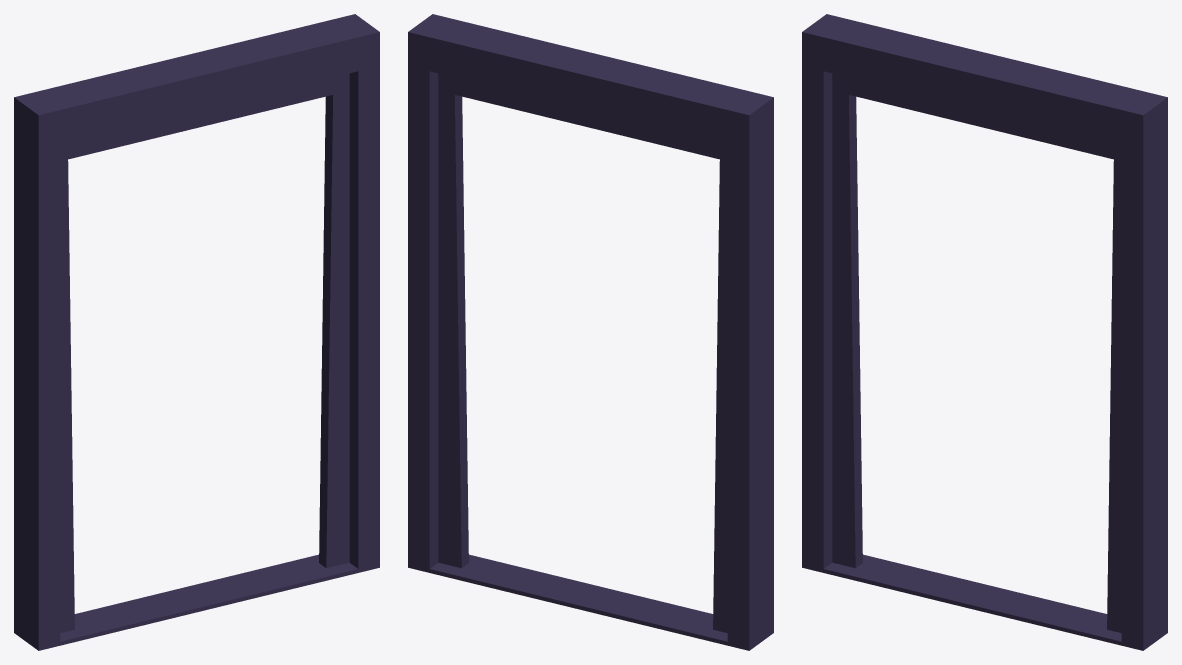
File: Glass_Doorway.fbx
The picture shows the model from 3 angles, left to right: view 1: azimuth 30°, elevation 25°; view 2: azimuth 150°, elevation 25°; view 3: azimuth 330°, elevation 25°; orthographic projection.
Parts seen in each view (by area): view 1: Glass_Wall_Doorway; view 2: Glass_Wall_Doorway; view 3: Glass_Wall_Doorway.
Part boxes in pixels (x1=…): Glass_Wall_Doorway: x1=14, y1=14, x2=379, y2=650; Glass_Wall_Doorway: x1=408, y1=14, x2=773, y2=650; Glass_Wall_Doorway: x1=802, y1=14, x2=1167, y2=650.
Size of the model in its own units: 2 by 3 by 0.25.
